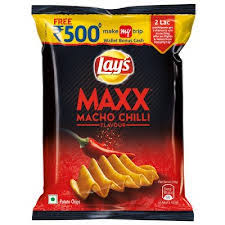lays-small: (34, 6, 191, 215)
